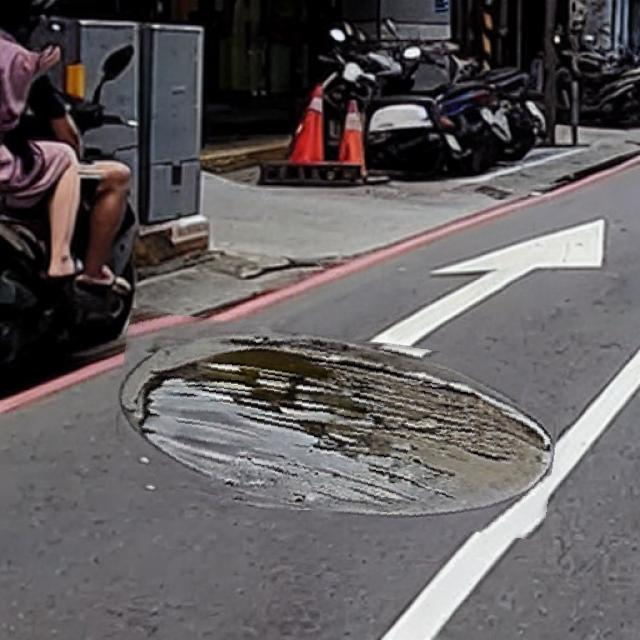puddle: (112, 325, 562, 528)
